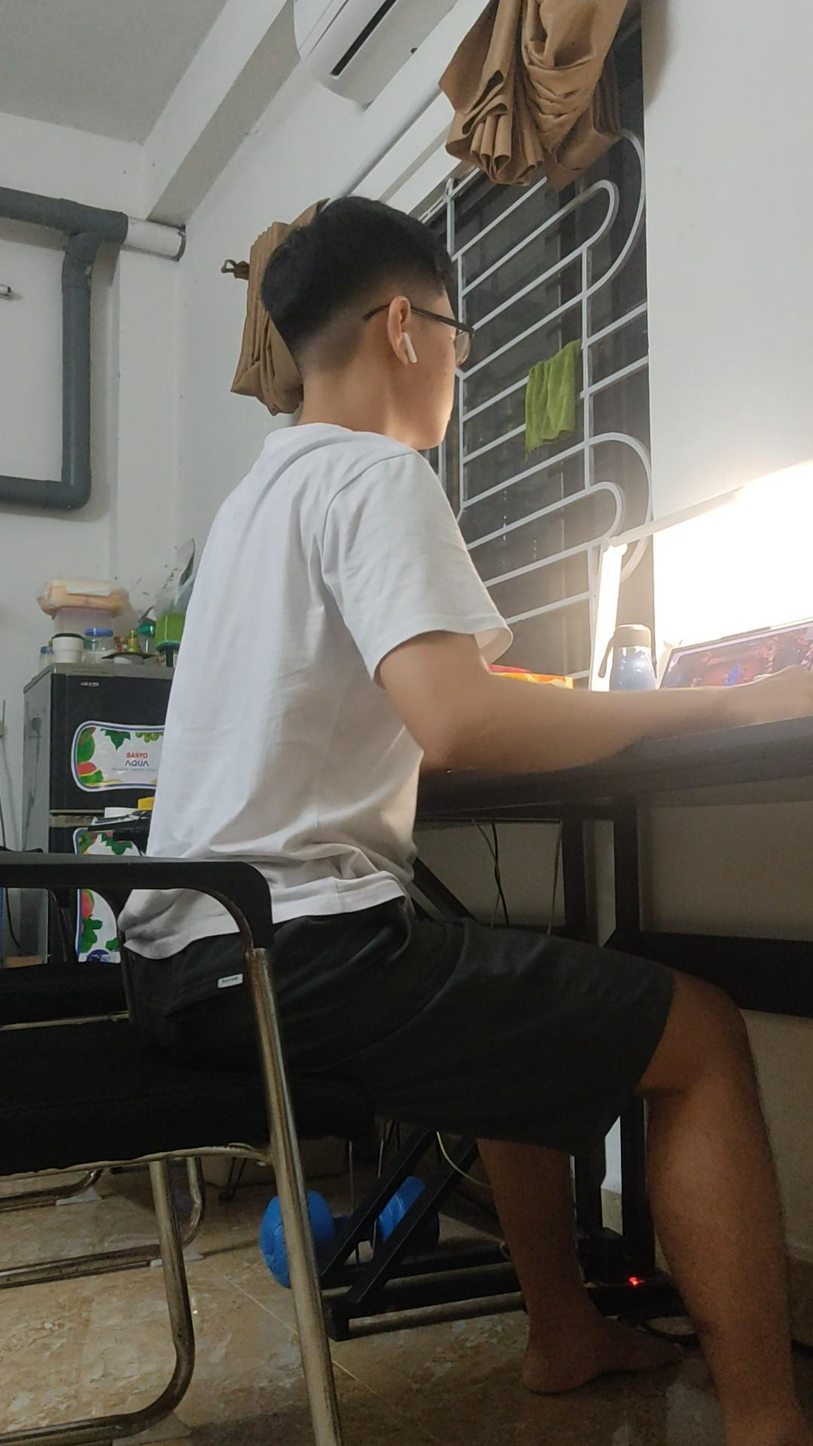GoodPosture: (149, 197, 812, 1445)
